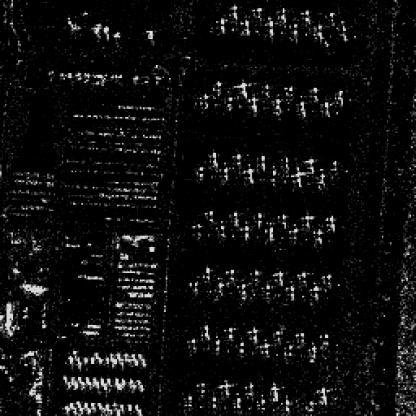airplane: (283, 284, 302, 304), (336, 20, 352, 42), (240, 164, 257, 184), (272, 268, 288, 288), (294, 268, 310, 288), (289, 327, 309, 343), (312, 23, 328, 42), (325, 10, 341, 29), (322, 213, 338, 232), (234, 283, 250, 302), (267, 166, 281, 187), (307, 229, 325, 245), (247, 268, 263, 286), (262, 282, 278, 300), (318, 268, 336, 284), (216, 378, 232, 396), (195, 380, 208, 402), (291, 167, 305, 187), (211, 223, 231, 237), (260, 226, 275, 244), (307, 286, 325, 301), (275, 210, 289, 229), (202, 208, 218, 224), (284, 226, 300, 242), (281, 341, 296, 358), (239, 18, 253, 36), (256, 152, 270, 170), (198, 265, 216, 279), (317, 330, 335, 344), (254, 393, 268, 411), (299, 213, 314, 229), (210, 80, 223, 98), (281, 154, 294, 172), (190, 222, 203, 240), (268, 384, 281, 402), (299, 8, 314, 23), (229, 151, 244, 166), (315, 172, 330, 187), (214, 16, 228, 32), (223, 265, 237, 281), (258, 340, 272, 356), (333, 86, 345, 104), (306, 154, 318, 172), (211, 336, 223, 354), (306, 343, 318, 361), (281, 396, 293, 414), (262, 21, 278, 34), (187, 278, 203, 291), (182, 392, 195, 408), (228, 3, 240, 20), (273, 94, 283, 114), (236, 80, 247, 98), (247, 94, 258, 112), (208, 151, 219, 169), (273, 324, 284, 342), (282, 83, 296, 97), (213, 280, 227, 294), (239, 224, 252, 239), (247, 325, 260, 340), (288, 21, 300, 37), (322, 99, 334, 115), (186, 336, 198, 352), (224, 322, 236, 338), (196, 93, 209, 107), (219, 166, 232, 180), (228, 211, 240, 226), (223, 96, 234, 112), (195, 164, 206, 180), (200, 322, 211, 338), (236, 338, 247, 354), (244, 382, 255, 398), (252, 5, 265, 18), (252, 213, 265, 226), (232, 395, 244, 409), (297, 99, 307, 115), (310, 84, 320, 100), (278, 7, 289, 21), (208, 395, 219, 409), (260, 83, 271, 96), (81, 354, 88, 368), (75, 354, 81, 368), (135, 377, 143, 387), (111, 401, 117, 413), (130, 380, 136, 392), (122, 349, 128, 361), (63, 404, 70, 414), (68, 401, 75, 411), (125, 403, 132, 413), (102, 401, 109, 411), (89, 401, 96, 411), (76, 375, 83, 385), (138, 382, 145, 392), (115, 382, 122, 392), (67, 353, 73, 364), (112, 377, 120, 385), (119, 401, 124, 413), (74, 400, 80, 410), (70, 374, 76, 384), (84, 374, 90, 384), (127, 377, 133, 387), (93, 349, 99, 359), (111, 356, 117, 366), (133, 403, 140, 411), (73, 380, 80, 388), (119, 356, 124, 367), (133, 356, 138, 367), (96, 401, 101, 411), (81, 378, 86, 388), (120, 377, 125, 387), (91, 375, 96, 385), (99, 375, 104, 385), (102, 380, 107, 390), (104, 354, 109, 364), (127, 356, 132, 366), (62, 374, 68, 382), (65, 380, 71, 388), (98, 354, 104, 362), (72, 348, 76, 359), (140, 356, 144, 367), (83, 402, 88, 410), (106, 377, 110, 387), (94, 380, 99, 388), (90, 354, 94, 364), (109, 350, 114, 358), (116, 349, 120, 359), (130, 351, 135, 359), (135, 408, 141, 414), (116, 408, 120, 414)
